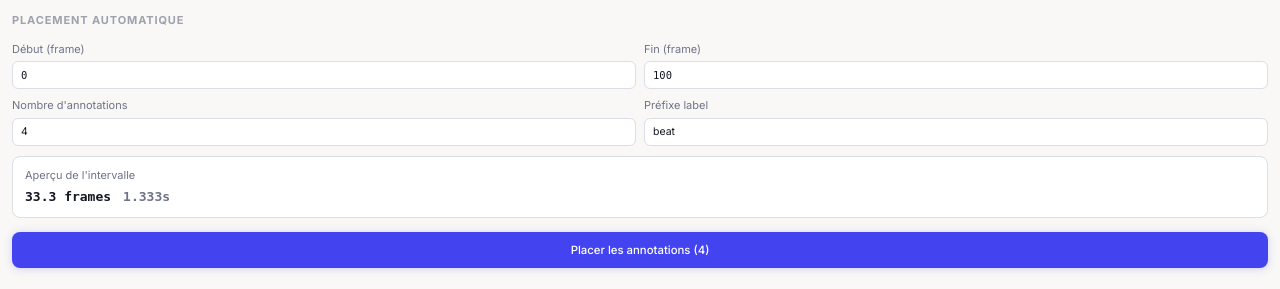
Scenario: BulkPlacementForm › disables submit when start >= end
This screenshot has width=1280, height=289.
Expected: the button "Placer les annotations (4)" is enabled, [12,232,1268,268]
Cas invalide
Replace the text in the number field labelled "Début (frame)" with "50": (324, 75) [12,61,636,89]
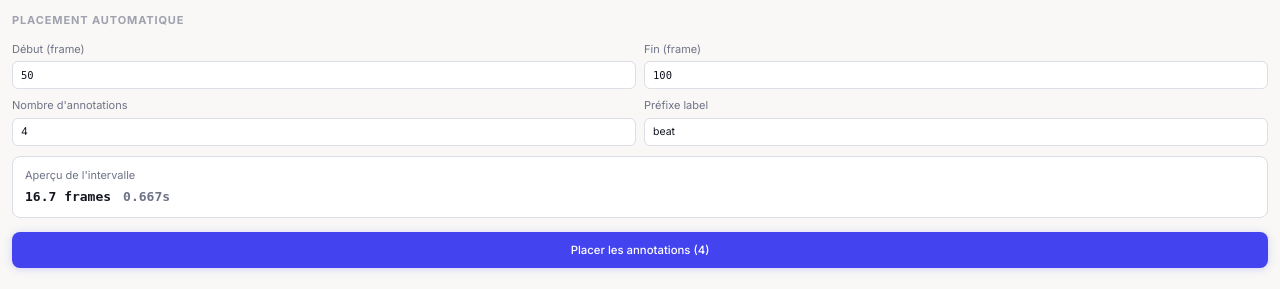
Replace the text in the number field labelled "Fin (frame)" with "50": (956, 75) [644,61,1268,89]
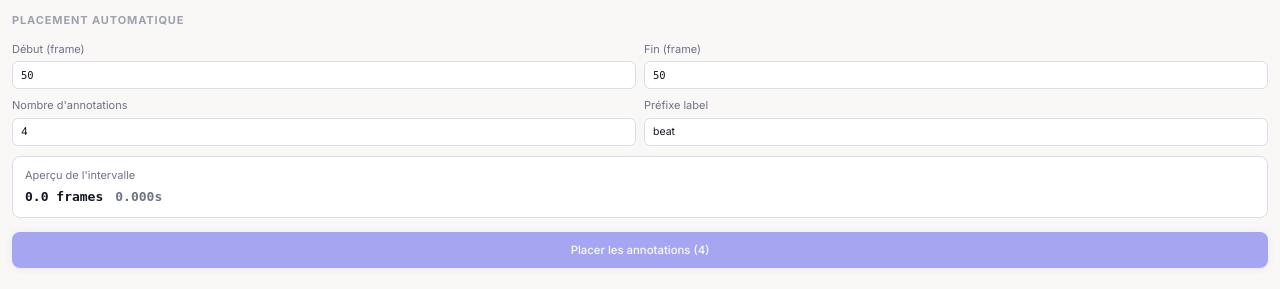
Expected: the button "Placer les annotations (4)" is disabled, [12,232,1268,268]
